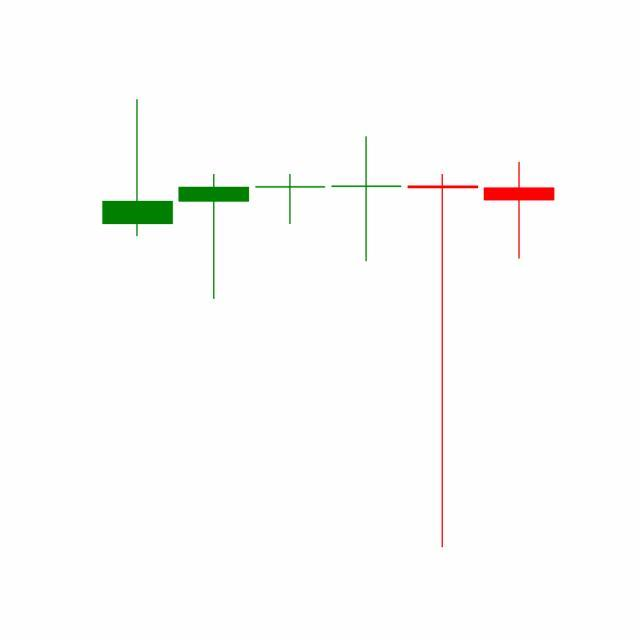Spinning Top: (404, 170, 482, 552)
